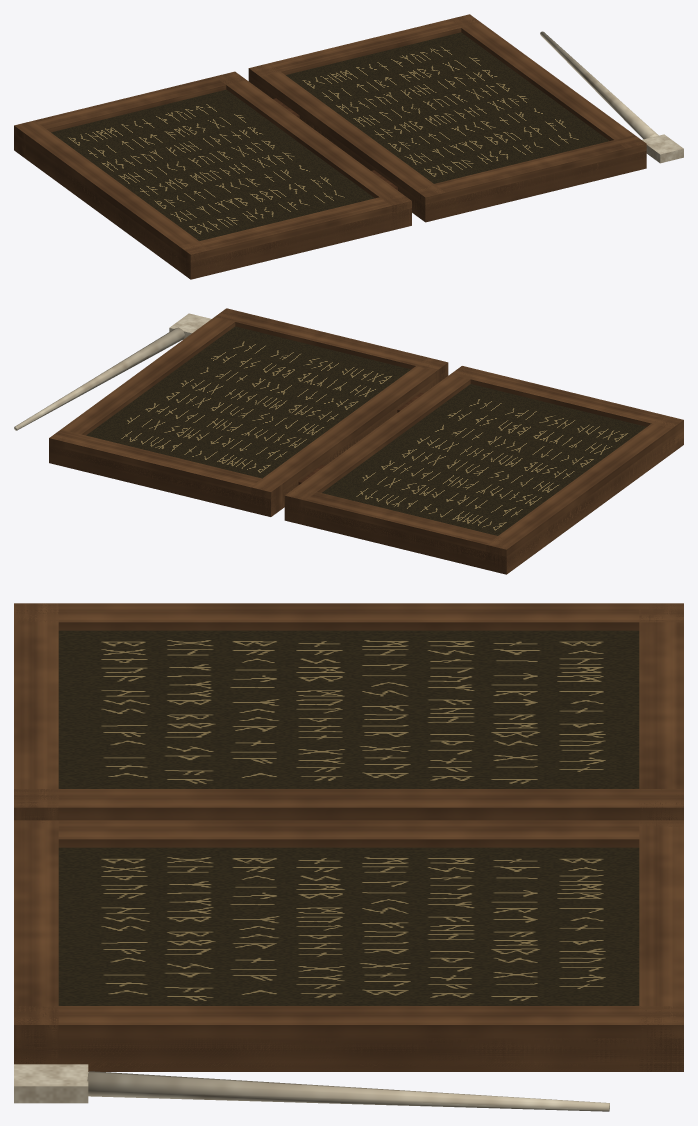
Rendered from waxtablet.glb.
3 views of the same model, one above another, from view 1: azimuth 30°, elevation 25°; view 2: azimuth 150°, elevation 25°; view 3: azimuth 270°, elevation 25° (orthographic). The views are drawn at different scales.
Visible parts, largest first — view 1: wax-1, wax1, base-1, frame-1l, frame-1b, frame1l, frame1b, base1, frame-1r, frame1r, frame1t, frame-1t (+2 smaller); view 2: wax1, wax-1, base-1, frame-1l, frame-1t, frame1t, frame1l, base1, frame-1r, frame1r, frame1b, frame-1b (+2 smaller); view 3: wax1, wax-1, frame1r, base1, frame-1r, frame-1l, frame1l, frame1b, frame-1b, frame1t, stylus, frame-1t (+1 smaller).
Boxes of the visible parts, x1,y1,x2,y2 form: wax-1: (51,89,374,240); wax1: (285,32,609,183); base-1: (14,133,411,279); frame-1l: (14,120,210,279); frame-1b: (179,192,411,278); frame1l: (248,63,445,221); frame1b: (414,135,646,221); base1: (248,76,646,222); frame-1r: (215,71,411,230); frame1r: (450,14,646,169); frame1t: (249,14,480,82); frame-1t: (14,72,245,158); wax1: (86,326,410,478); wax-1: (322,384,646,535); base-1: (284,436,683,574); frame-1l: (486,416,683,573); frame-1t: (285,490,517,572); frame1t: (49,429,282,516); frame1l: (250,357,447,516); base1: (49,370,448,516); frame-1r: (284,366,480,524); frame1r: (49,309,245,462); frame1b: (215,308,448,383); frame-1b: (451,366,683,428); wax1: (58,847,639,1005); wax-1: (58,630,639,788); frame1r: (14,1006,683,1071); base1: (14,1038,683,1071); frame-1r: (14,789,683,820); frame-1l: (14,603,683,630); frame1l: (16,820,683,847); frame1b: (14,820,58,1064); frame-1b: (14,603,58,820); frame1t: (639,820,683,1071); stylus: (87,1071,609,1111); frame-1t: (639,603,683,820).
Bounding box in the file's own units: 0.3002 × 0.014 × 0.18.
4 materials, 4 textured.
